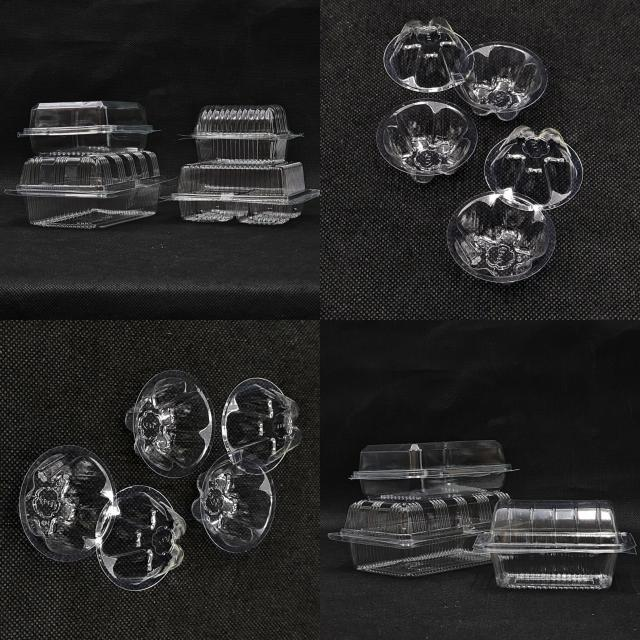Single-Use-Plastic: (330, 491, 509, 576), (474, 500, 636, 588), (8, 150, 161, 228), (19, 445, 115, 562), (448, 191, 555, 282), (125, 370, 215, 478), (96, 486, 185, 591), (171, 162, 319, 224), (351, 440, 511, 496), (191, 450, 275, 552), (485, 126, 582, 210), (376, 100, 476, 178), (221, 378, 301, 475), (455, 42, 548, 121), (19, 102, 154, 154), (384, 18, 470, 92), (191, 105, 299, 162)
